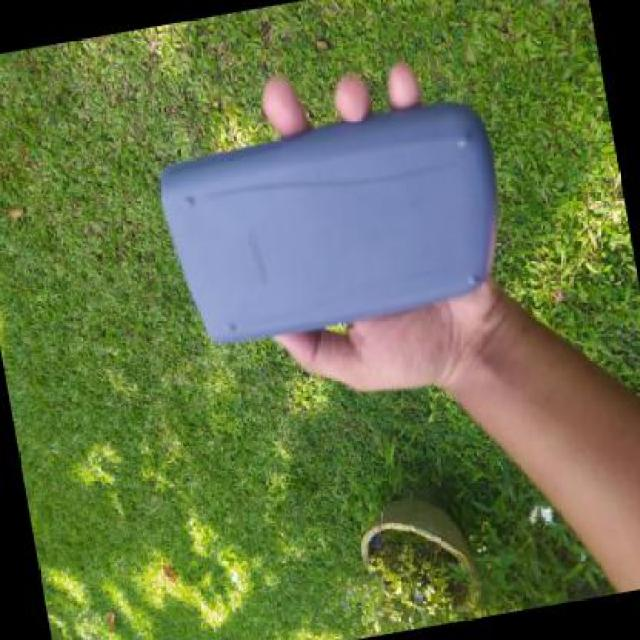Calculator: (132, 67, 532, 367)
